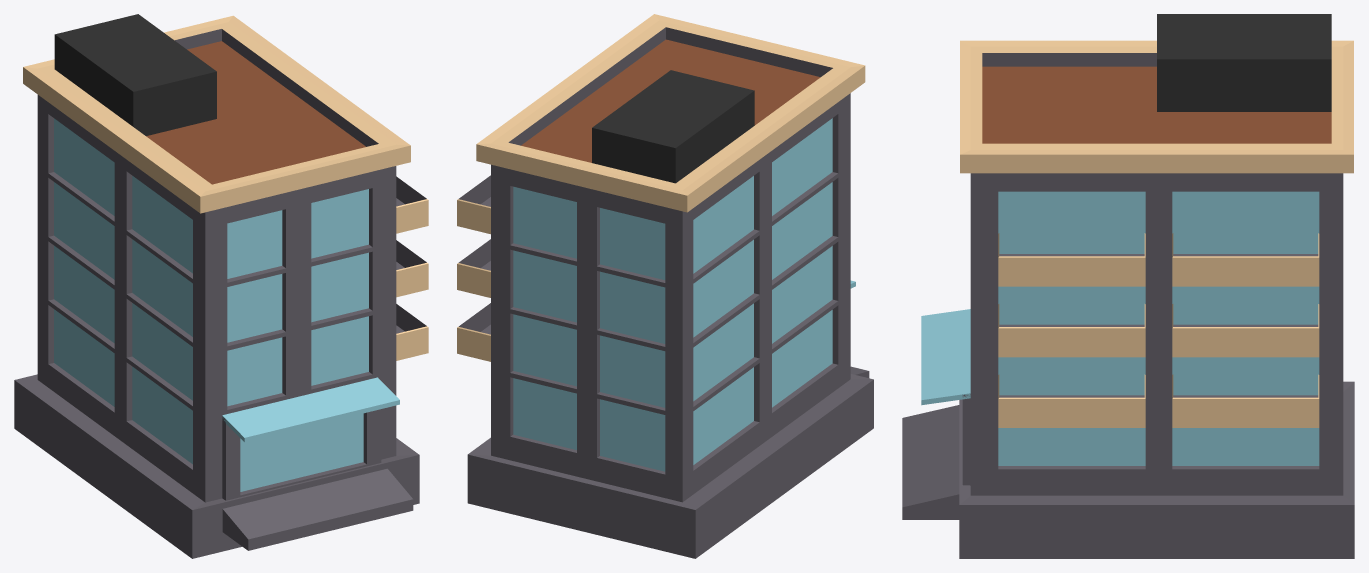
Rendered from houses3.glb.
3 renders of one model, left to right at view 1: azimuth 30°, elevation 25°; view 2: azimuth 150°, elevation 25°; view 3: azimuth 270°, elevation 25°, orthographic. The views are drawn at different scales.
Parts seen in each view (by area): view 1: House; view 2: House; view 3: House.
Boxes of the visible parts, x1,y1,x2,y2 form: House: (14,14,428,558); House: (457,14,873,558); House: (902,14,1354,558).
Size of the model in its own units: 3.69 by 5.49 by 5.13.
